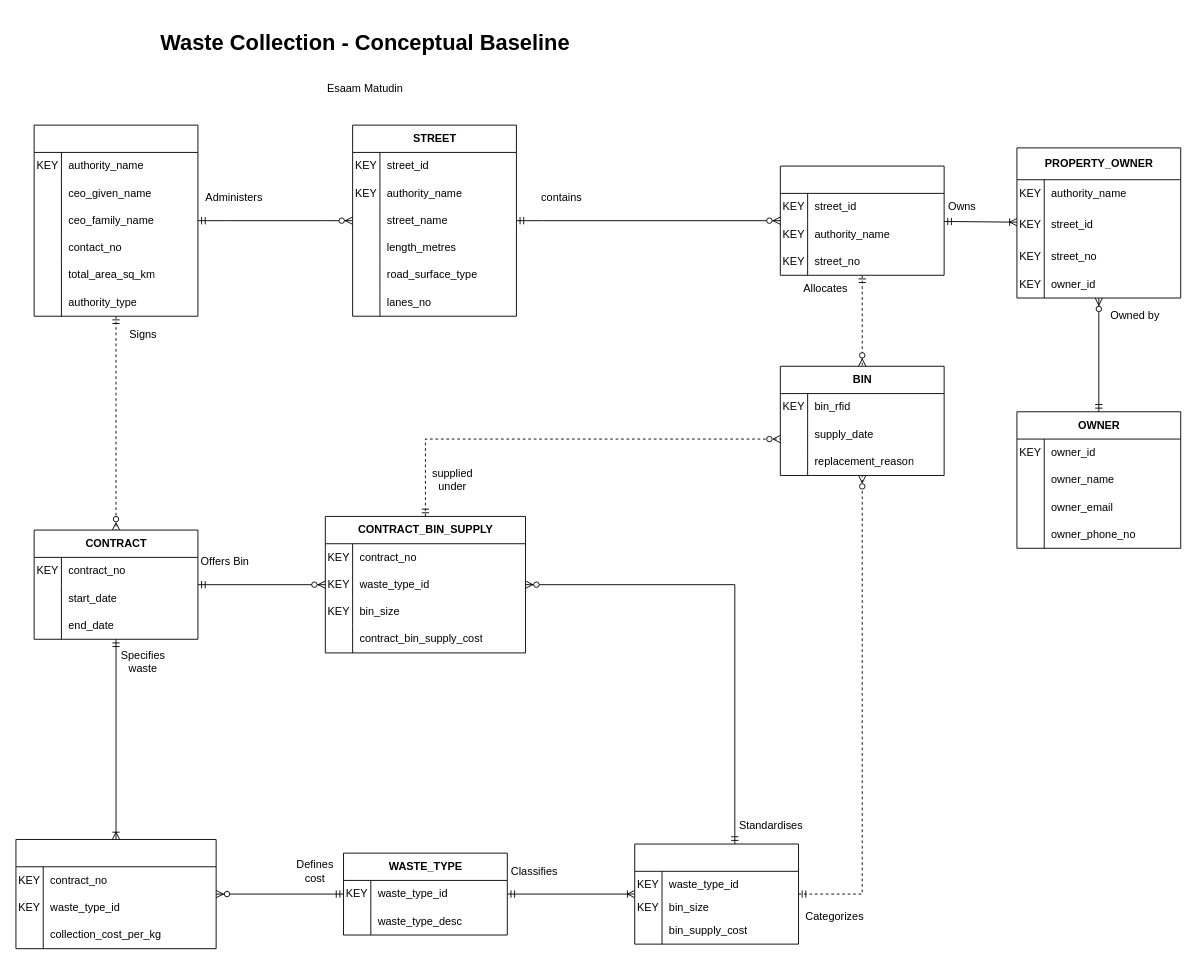
This 1197x965 diagram has some shape labels left out. The box of each missing label's shape, as (x1, y1, x2, y2) in pixels:
BIN_TYPE: (634, 843, 799, 944)
CONTRACT_WASTE_COLLECTION: (15, 839, 216, 949)
LOCAL_AUTHORITY: (33, 124, 198, 316)
PROPERTY: (779, 165, 944, 275)
